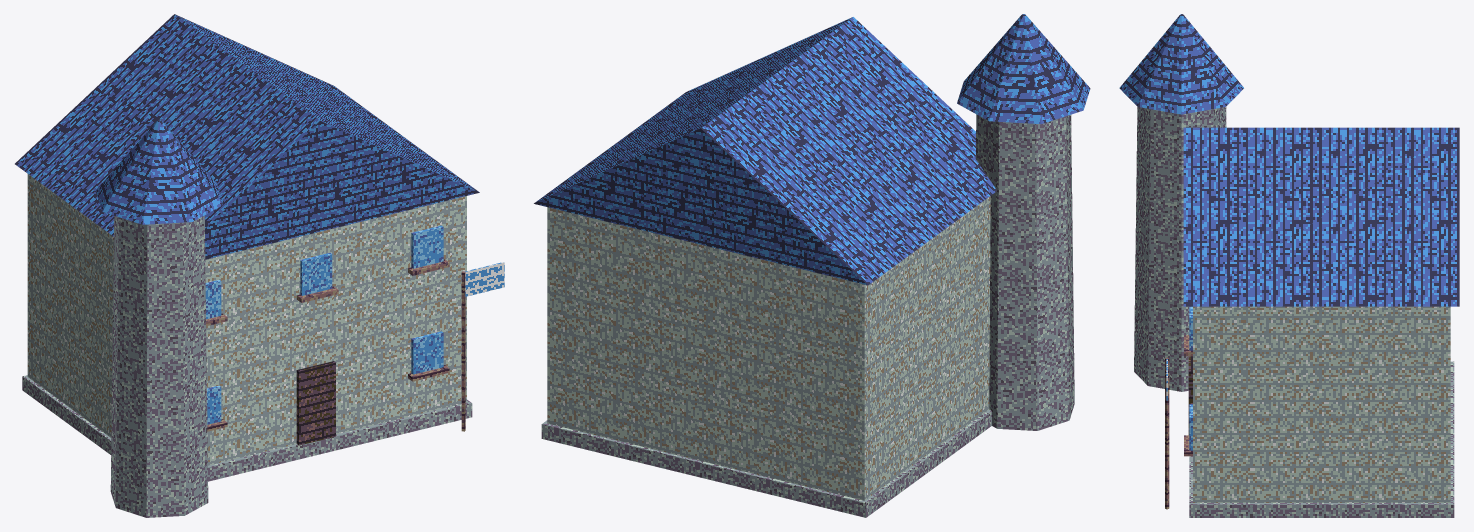
Rendered from quartel.glb.
The picture shows the model from 3 angles, left to right: view 1: azimuth 30°, elevation 25°; view 2: azimuth 150°, elevation 25°; view 3: azimuth 270°, elevation 25°; orthographic projection. The views are drawn at different scales.
Visible parts, largest first — view 1: quartel; view 2: quartel; view 3: quartel.
Boxes of the visible parts, x1,y1,x2,y2 form: quartel: [15, 14, 504, 517]; quartel: [534, 14, 1090, 517]; quartel: [1119, 14, 1459, 517].
Bounding box in the file's own units: 11.7 × 10.7 × 9.25.
7 materials, 7 textured.
